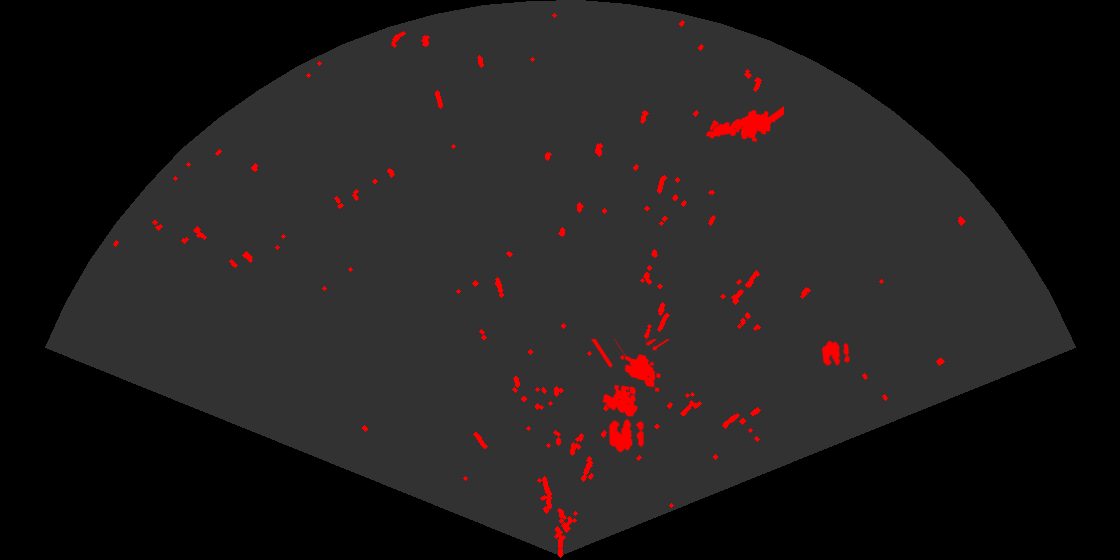ball: (607, 417, 645, 454), (820, 339, 851, 368)
cage: (590, 339, 671, 418)
frogman: (704, 105, 784, 144)
